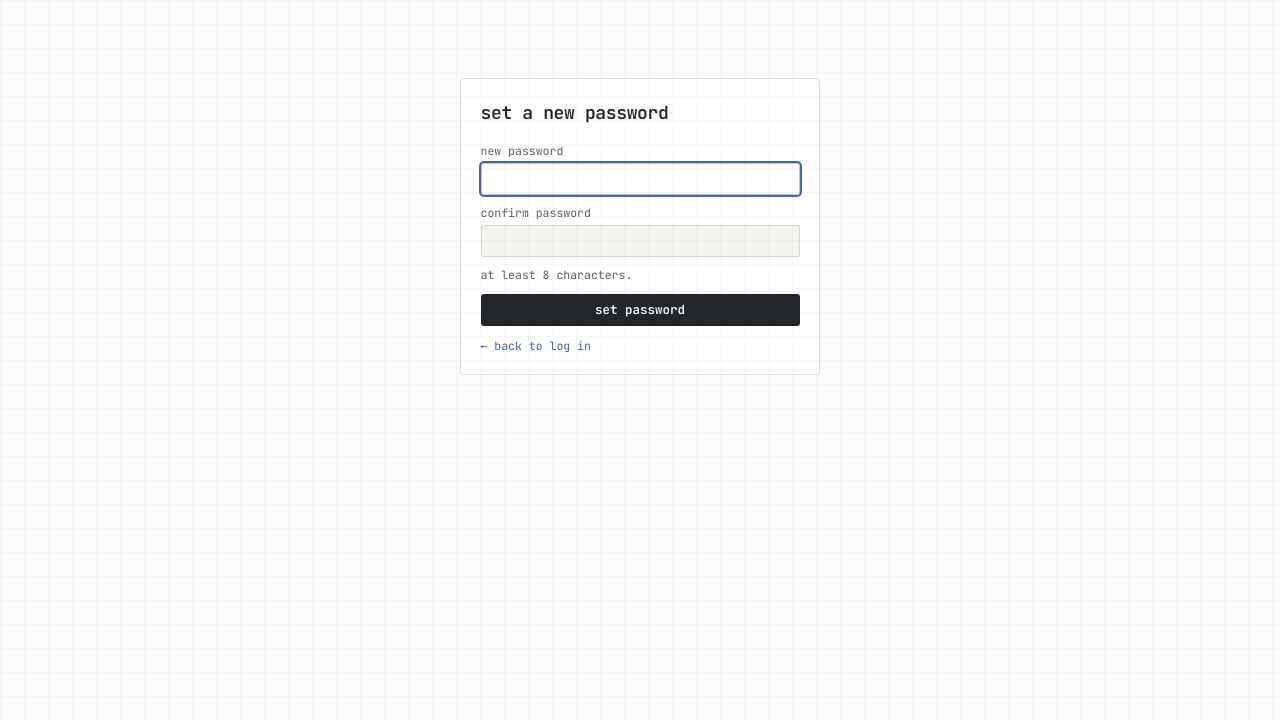
ResetPasswordPage › posts the token and confirms the change
The width and height of the screenshot is (1280, 720).
Type "hunter2hunter2" into the password field labelled "new password".
click(640, 179); type("hunter2hunter2")  # box [480,163,800,195]
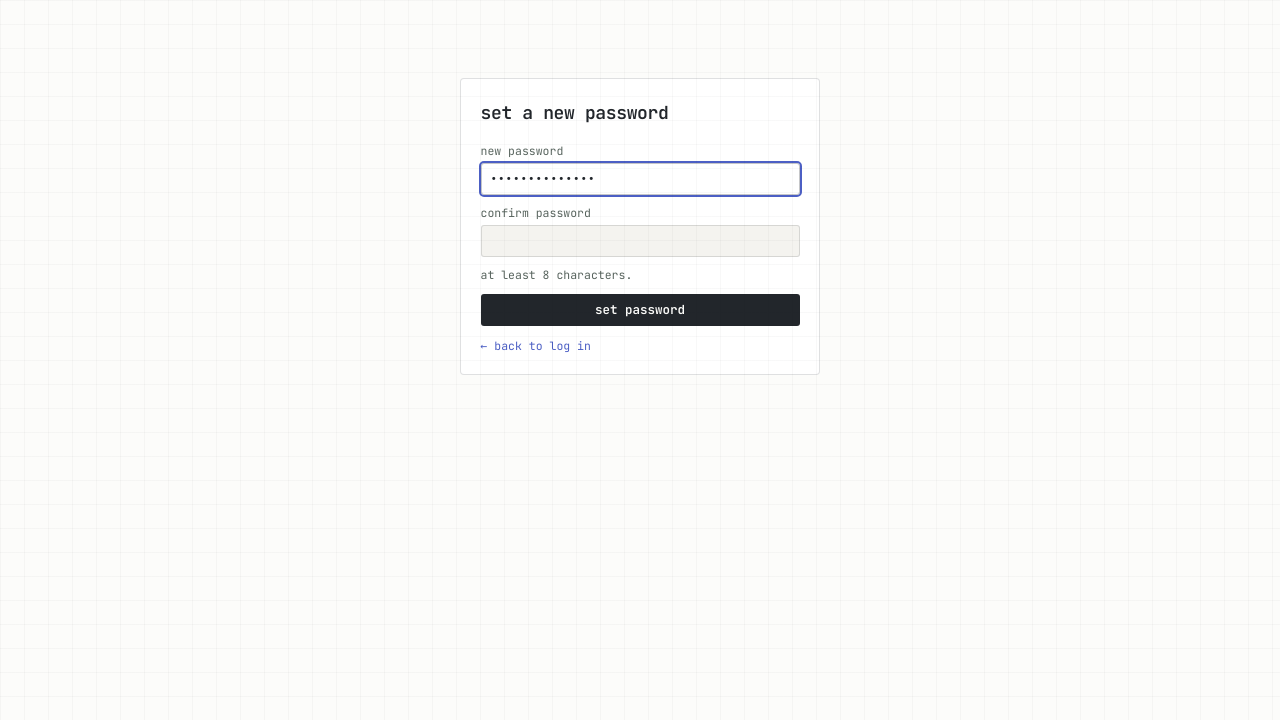
Type "hunter2hunter2" into the password field labelled "confirm password".
click(640, 241); type("hunter2hunter2")  # box [480,225,800,257]
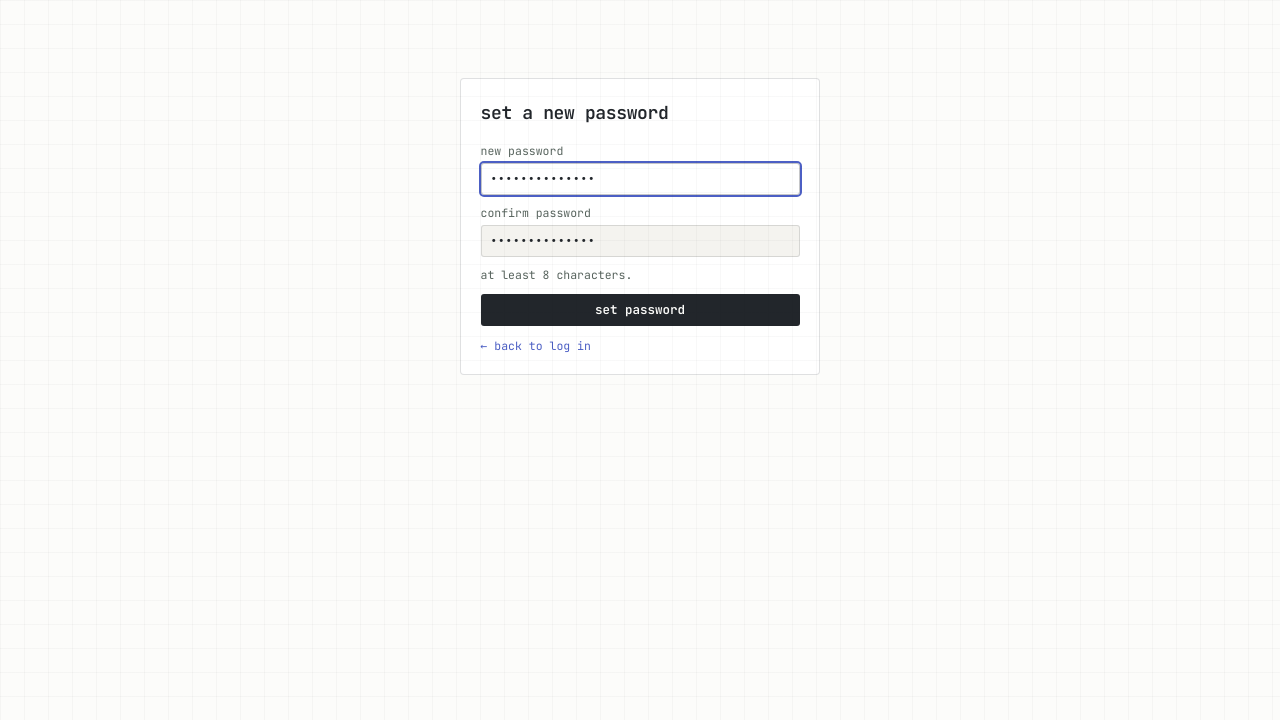
Click the button "set password".
click(640, 310)  # box [480,294,800,326]
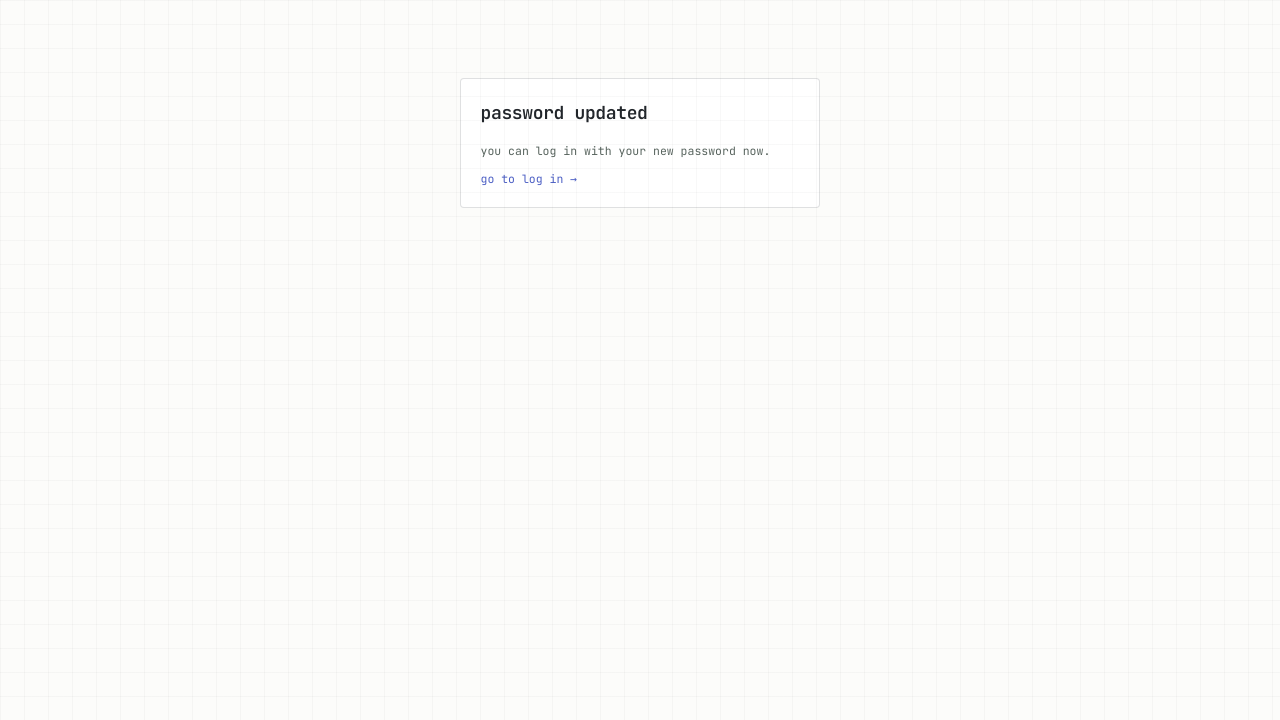
Expected: the heading "password updated" is shown, [480,100,648,124]
